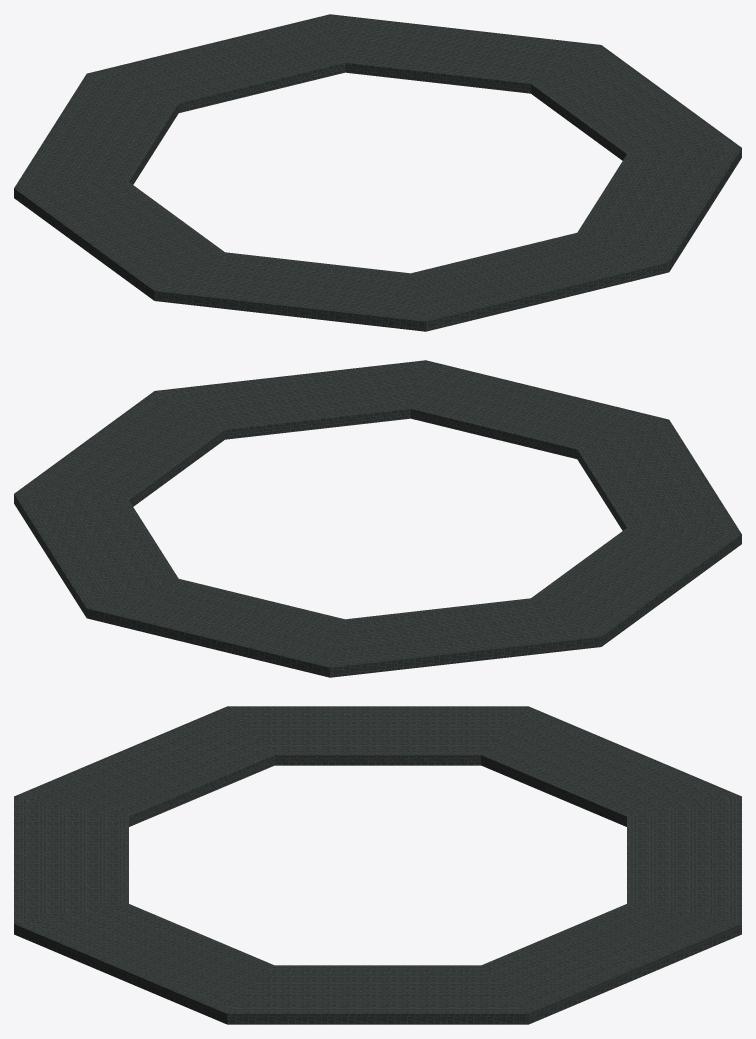
The model's file is UpperFloor.fbx.
3 renders of one model, top to bottom at view 1: azimuth 30°, elevation 25°; view 2: azimuth 150°, elevation 25°; view 3: azimuth 270°, elevation 25°, orthographic. The views are drawn at different scales.
Visible parts, largest first — view 1: Cylinder; view 2: Cylinder; view 3: Cylinder.
Part boxes in pixels (x1,y1,x2,y2): Cylinder: (14, 14, 741, 331); Cylinder: (14, 360, 741, 677); Cylinder: (14, 706, 741, 1024).
Size of the model in its own units: 3757 by 60.12 by 3757.
